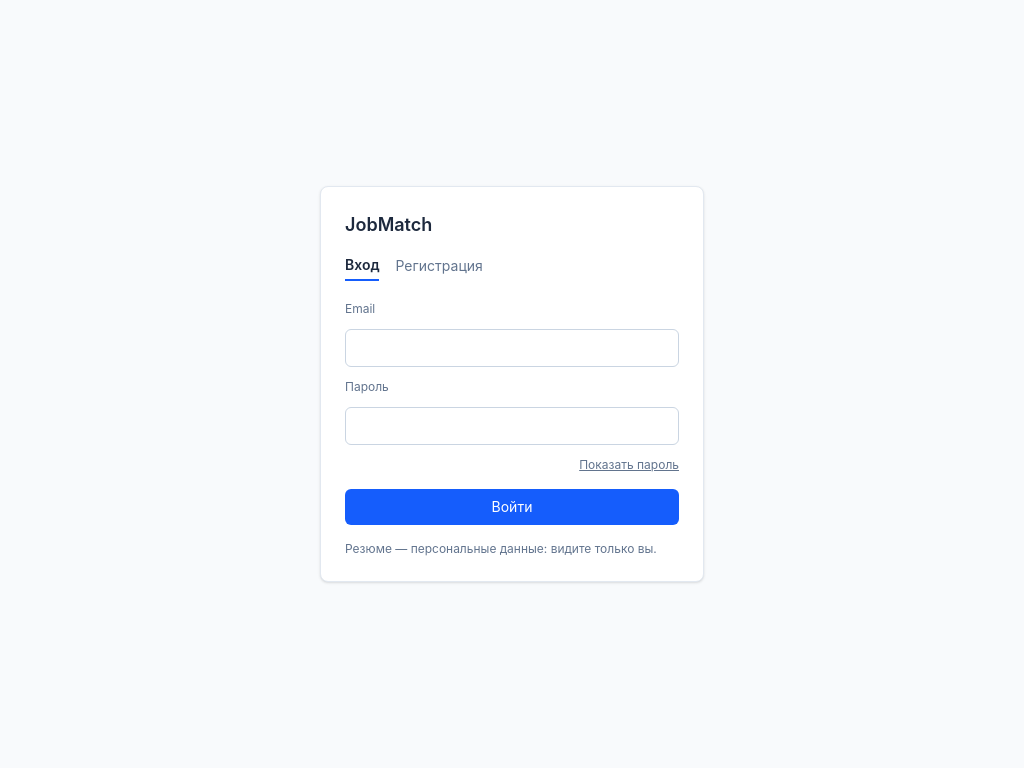
вход и регистрация › успешный вход сохраняет токен и открывает ленту
Step 1. Type "ivan@example.com" into the field labelled "Email" → [512, 348], box x1=345 y1=329 x2=679 y2=367
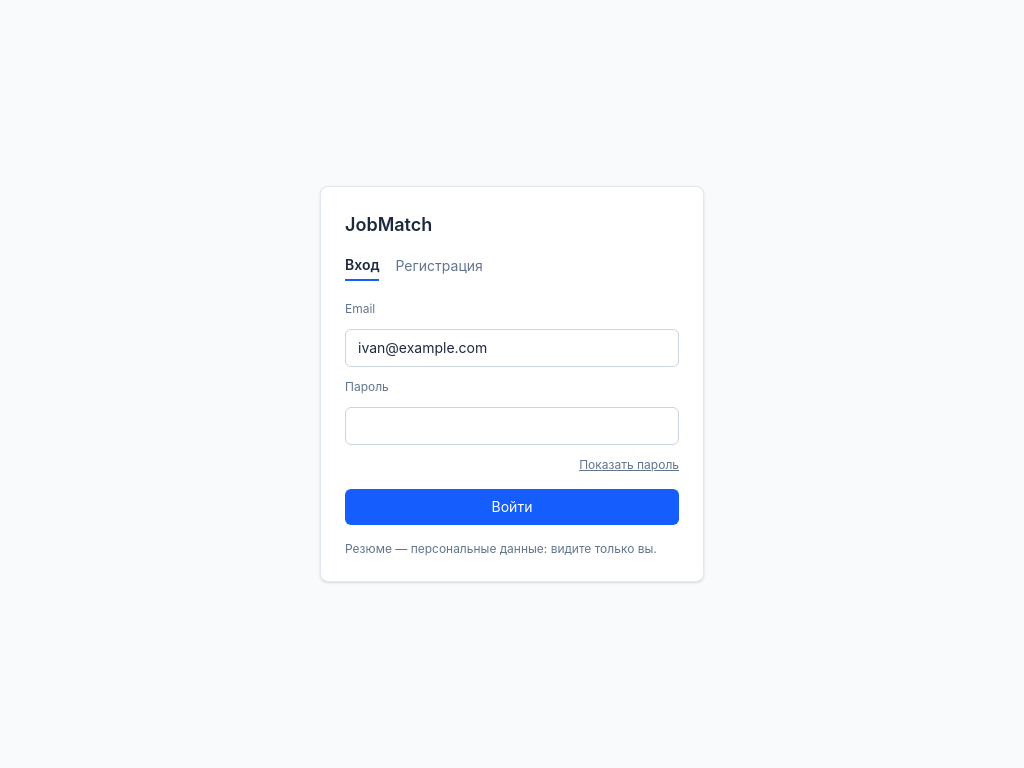
Step 2. Type "correct-horse-1" into the password field labelled "Пароль" → [512, 426], box x1=345 y1=407 x2=679 y2=445
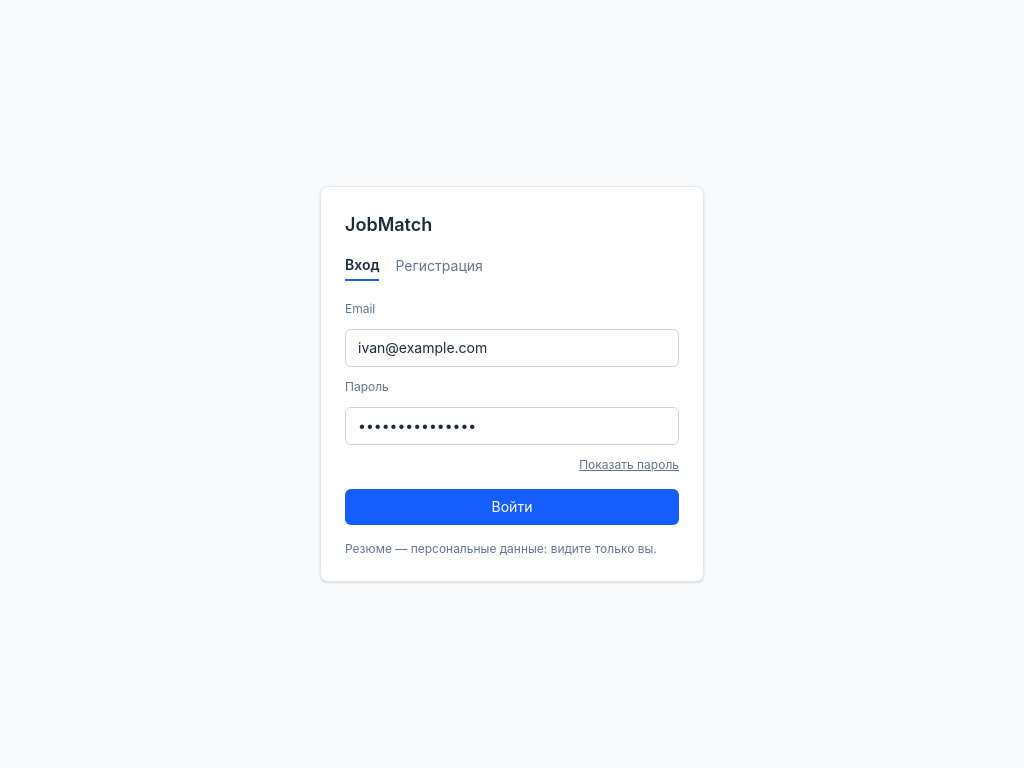
Step 3. Click the button "Войти" → [512, 507], box x1=345 y1=489 x2=679 y2=525
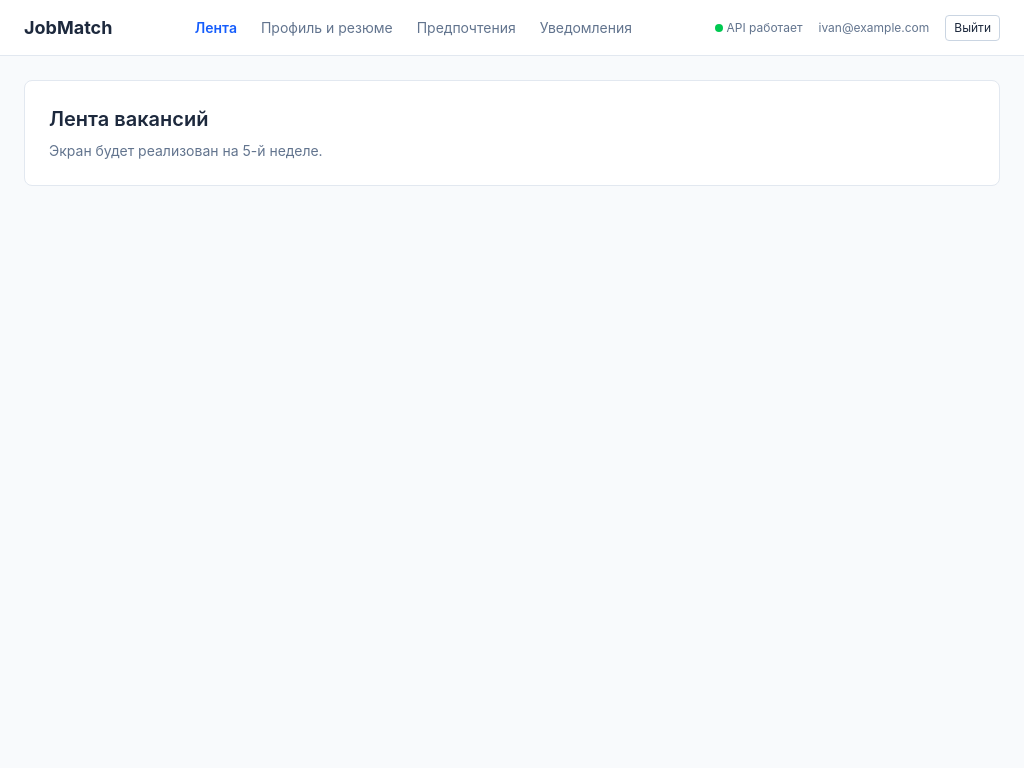
Now the heading "Лента вакансий" is shown, box x1=49 y1=107 x2=208 y2=131
